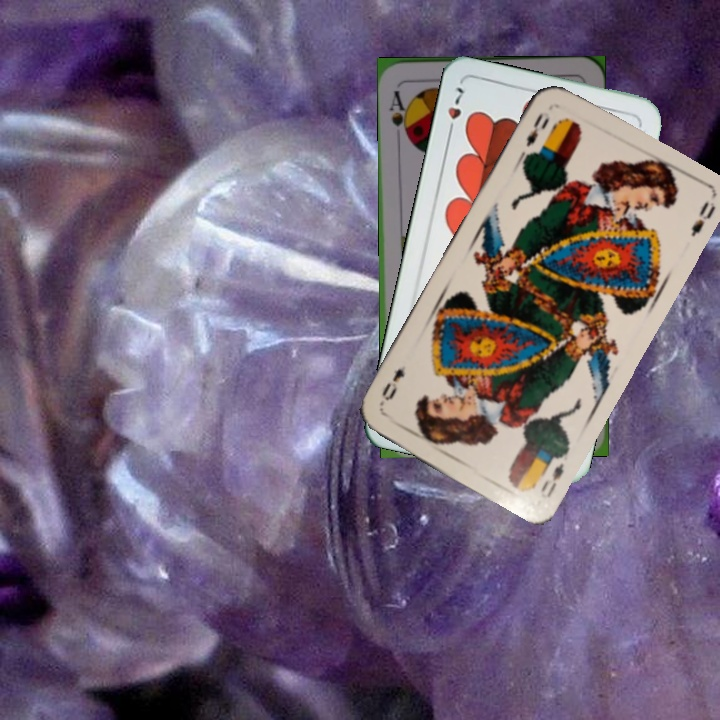EO: (535, 459, 567, 501), (521, 108, 552, 149)
H7: (443, 83, 466, 139)
SA: (385, 86, 411, 141)
